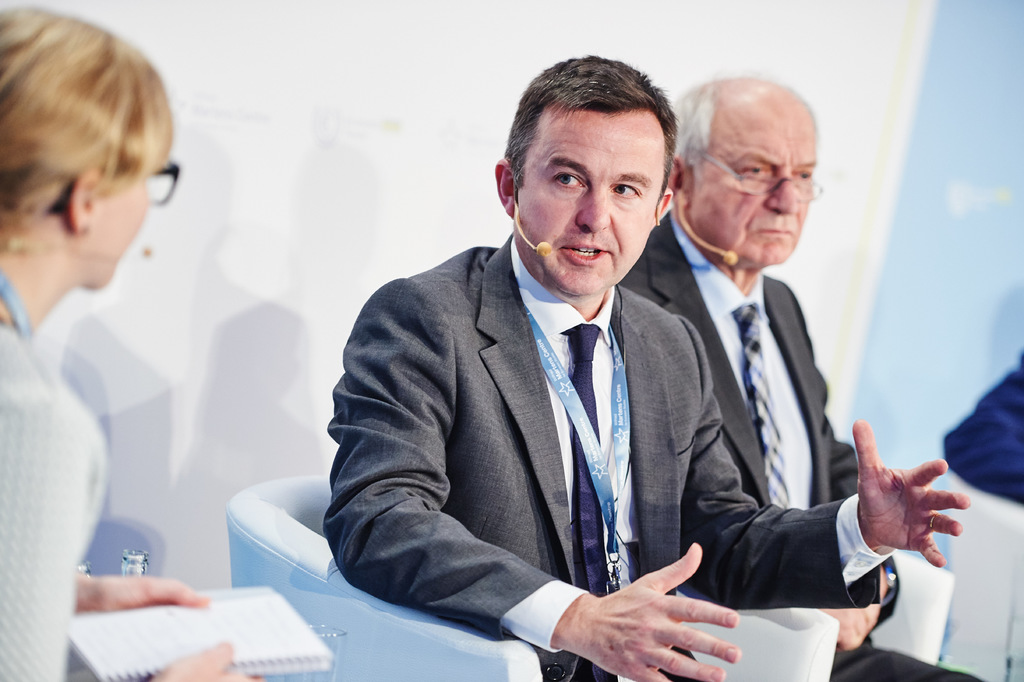Person: (323, 55, 971, 682), (623, 75, 989, 682)
